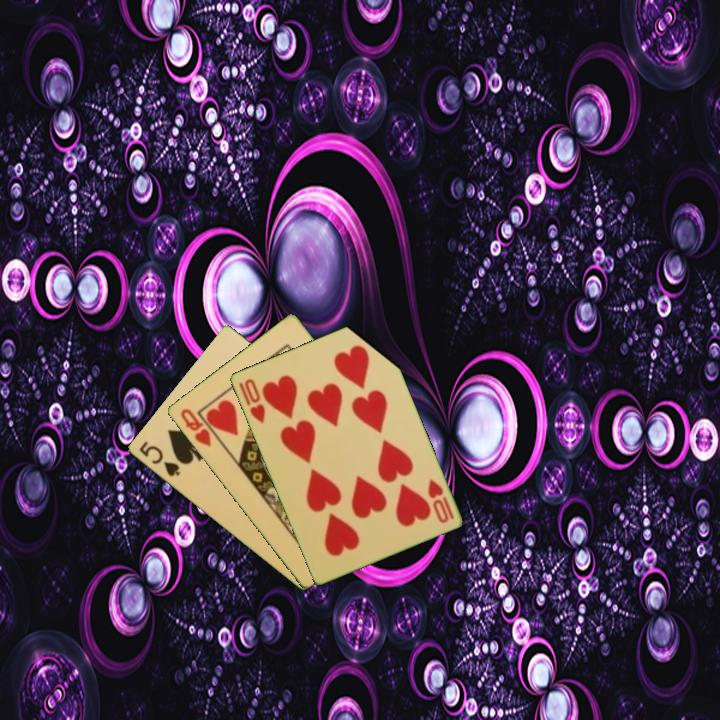10h: (235, 375, 268, 426), (424, 475, 457, 526)
5s: (135, 438, 182, 480)
Qh: (177, 405, 214, 449)
